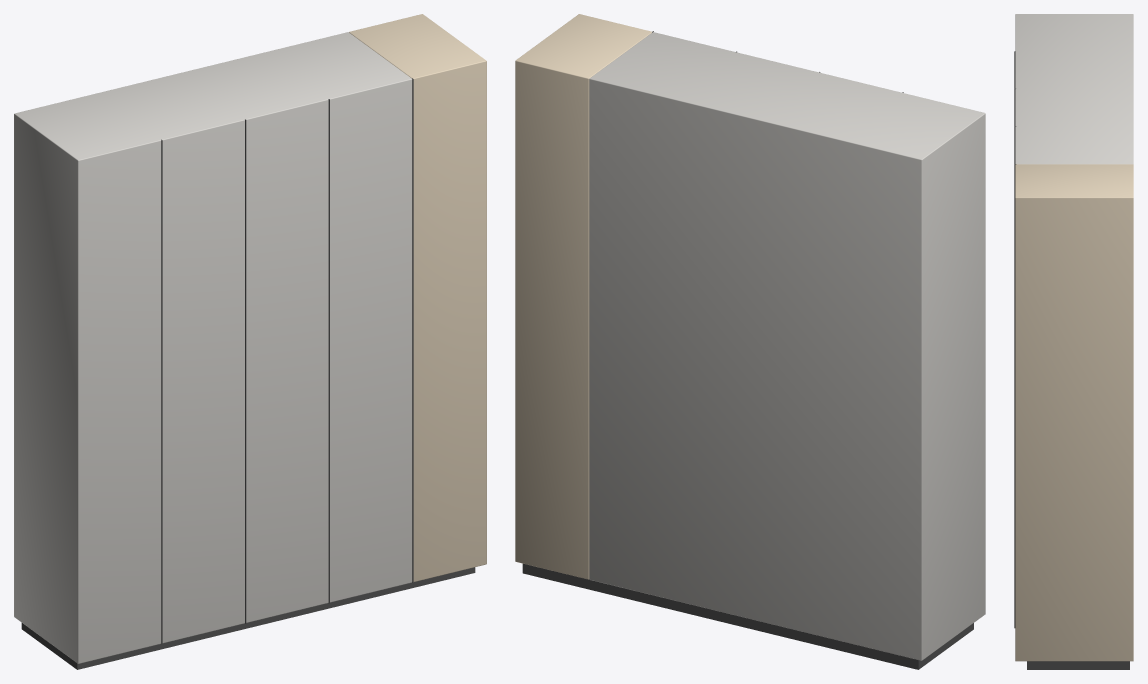
File: mo_wardrobe_wide.glb
The picture shows the model from 3 angles, left to right: view 1: azimuth 30°, elevation 25°; view 2: azimuth 150°, elevation 25°; view 3: azimuth 270°, elevation 25°; orthographic projection. The views are drawn at different scales.
Visible parts, largest first — view 1: body, endpanel, plinth, gap1, gap2, gap3, seam; view 2: body, endpanel, plinth; view 3: endpanel, body, seam, plinth.
Part boxes in pixels (bbox=[...]): body: bbox=[14, 32, 412, 663]; endpanel: bbox=[349, 14, 486, 581]; plinth: bbox=[21, 567, 475, 669]; gap1: bbox=[161, 139, 162, 644]; gap2: bbox=[245, 119, 246, 623]; gap3: bbox=[328, 99, 329, 603]; seam: bbox=[412, 78, 413, 582]; body: bbox=[589, 32, 985, 660]; endpanel: bbox=[515, 14, 651, 579]; plinth: bbox=[522, 563, 973, 669]; endpanel: bbox=[1015, 164, 1133, 661]; body: bbox=[1015, 14, 1133, 164]; seam: bbox=[1014, 164, 1016, 628]; plinth: bbox=[1027, 661, 1129, 669].
Size of the model in its own units: 2.2 by 2.65 by 0.605.
